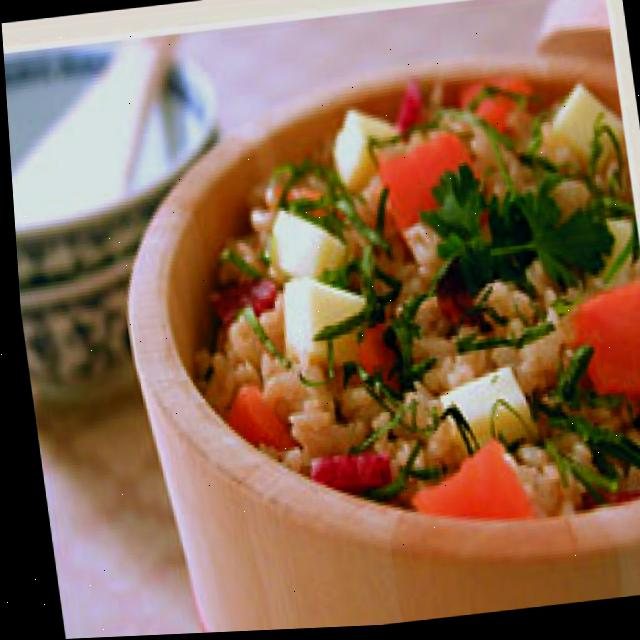寿司卷物: (146, 16, 640, 601)
